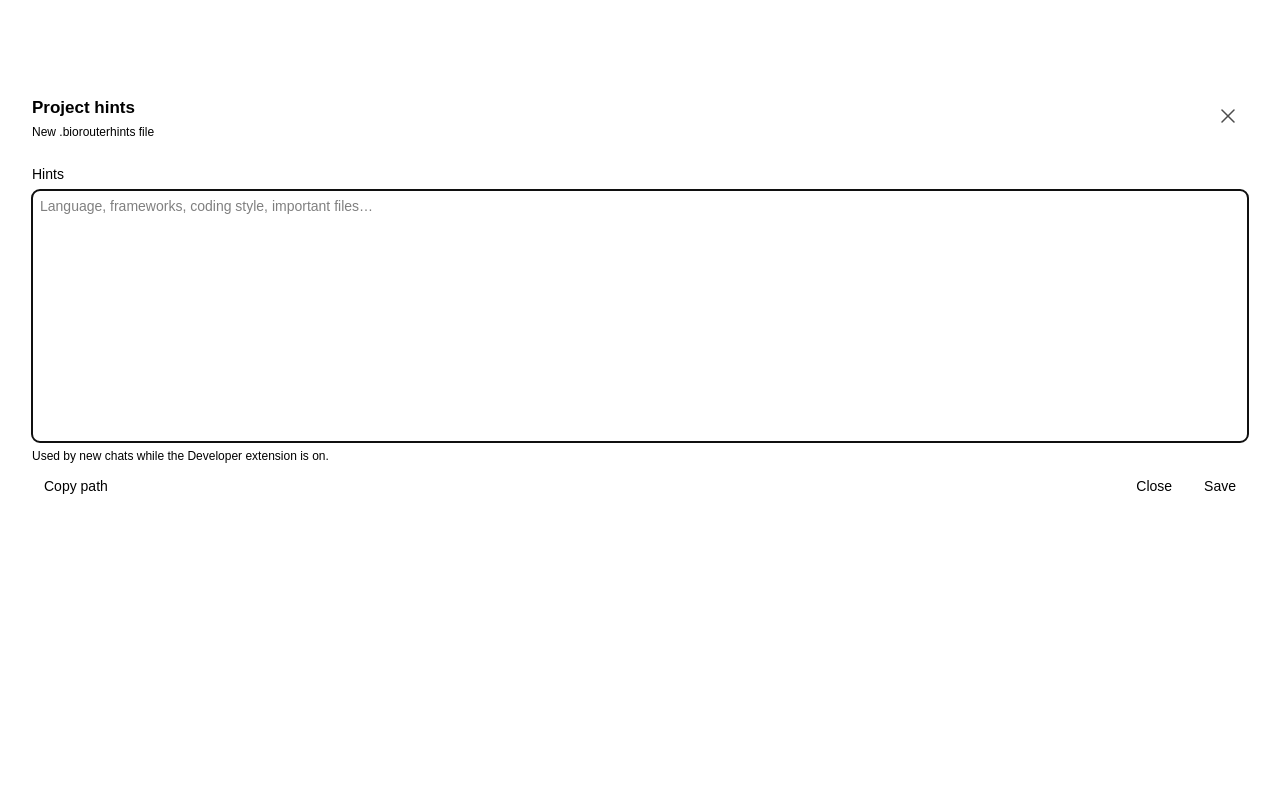
Test: Project hints dialog › copies the full path from one Copy path action, and says so
expect the dialog "Project hints" is shown: met, box [16, 80, 1264, 512]
Click the button "Copy path". click: click(76, 486)
box: [32, 476, 120, 496]
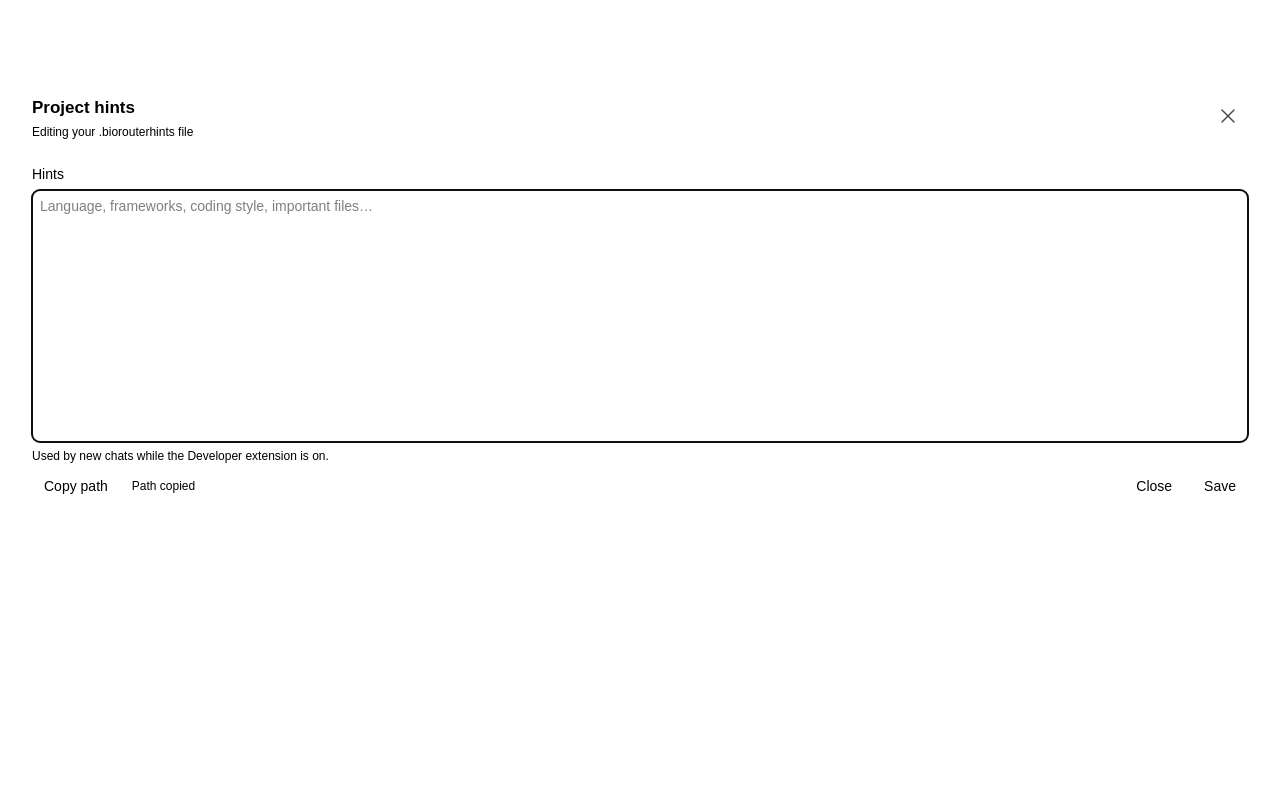
expect the message reads "Path copied": met, box [132, 479, 195, 493]
